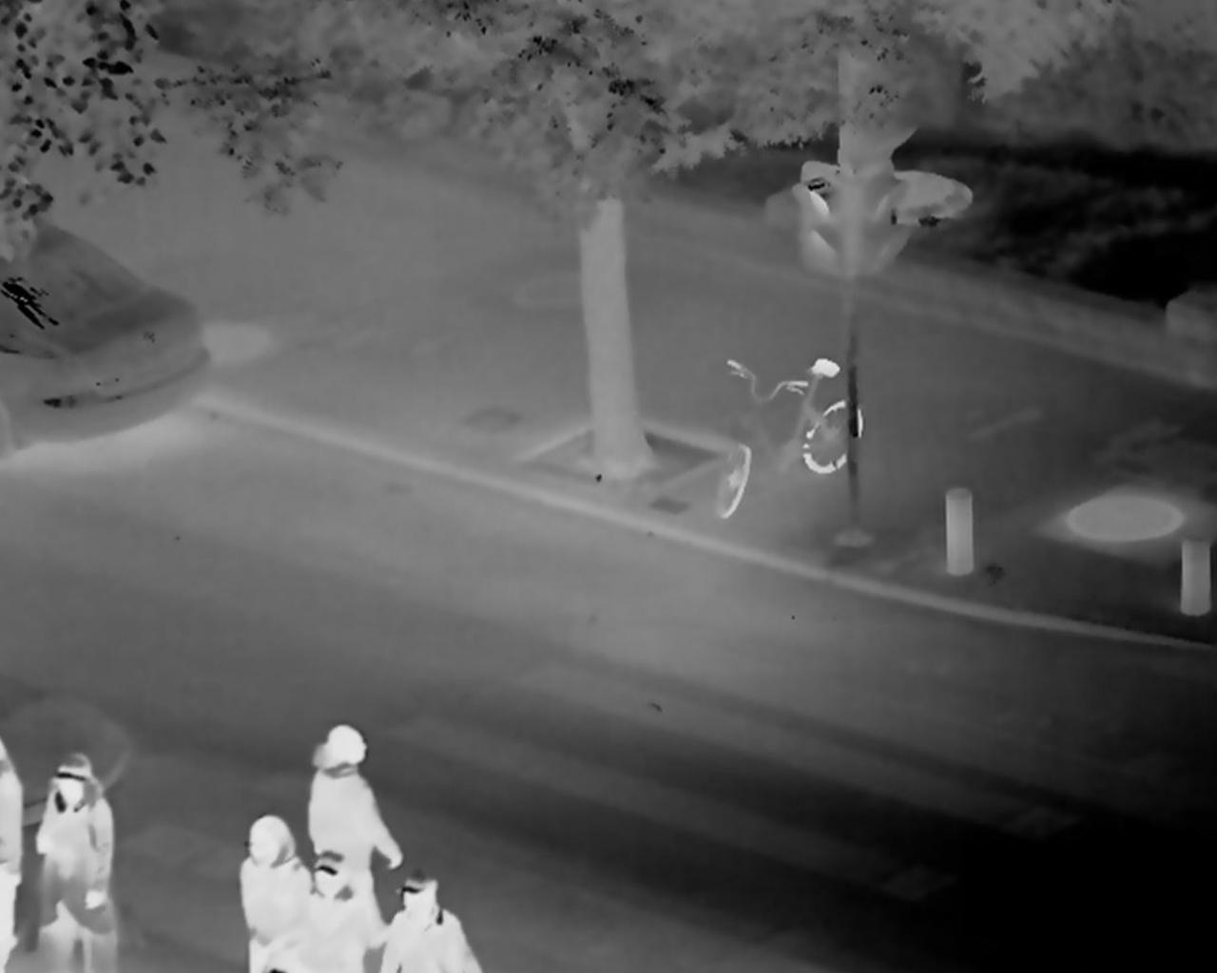person: (305, 723, 403, 945), (36, 750, 123, 973), (237, 814, 311, 973), (380, 873, 478, 973), (298, 847, 366, 973)
